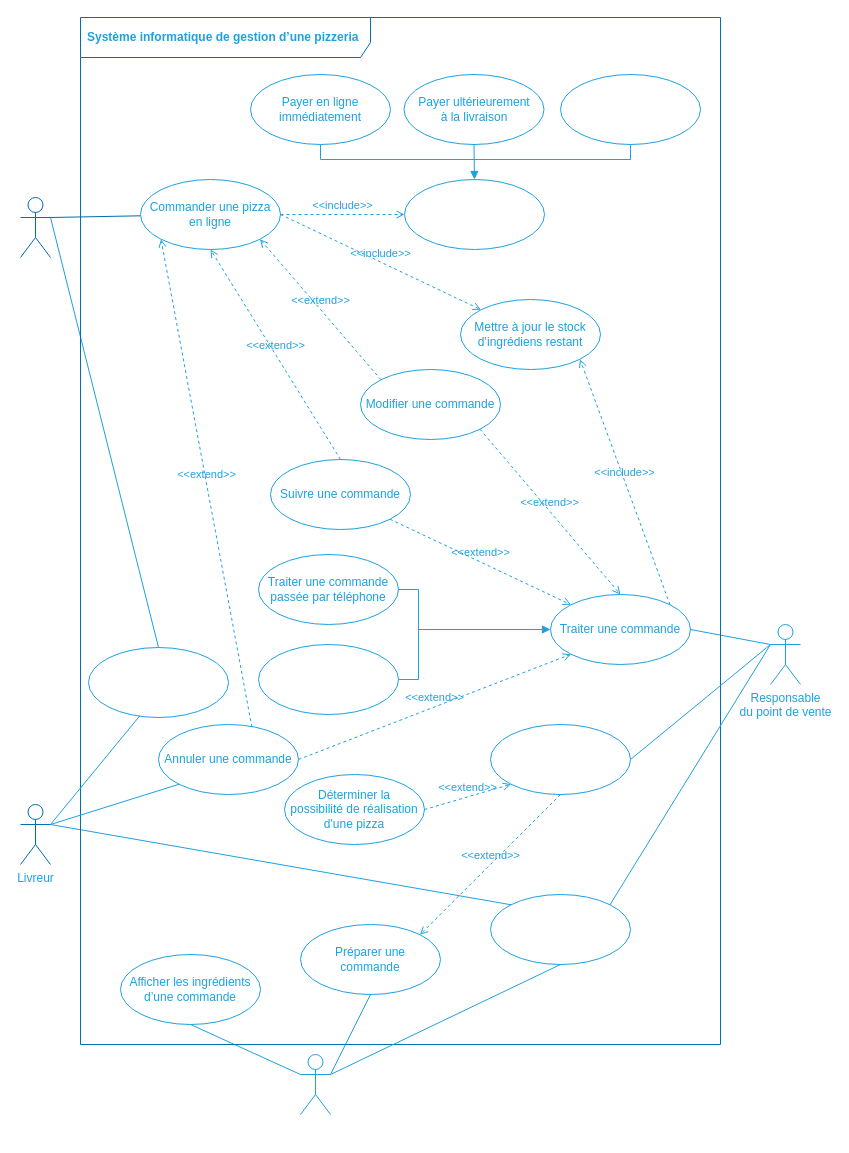
This 849x1153 diagram has some shape labels left out. The shapes that lost their labels are listed below. From the top down, each one's centre as x and y in pixels, then its label:
the point at 630,109: Payer ultérieurement sur place
the point at 35,227: Client
the point at 474,214: Payer la commande
the point at 158,682: Livrer une commande
the point at 328,679: Traiter une commande passée sur place
the point at 560,759: Consulter le stock d’ingrédients restant
the point at 560,929: Afficher la liste des commandes et leur statut
the point at 315,1084: Pizzaïolo
